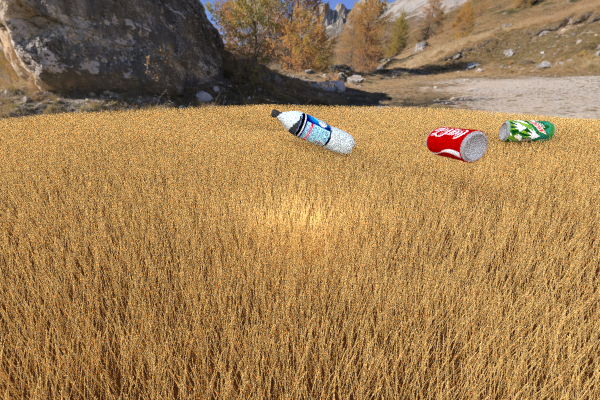bottle: (270, 109, 355, 155)
can: (425, 126, 488, 162), (499, 120, 555, 143)
